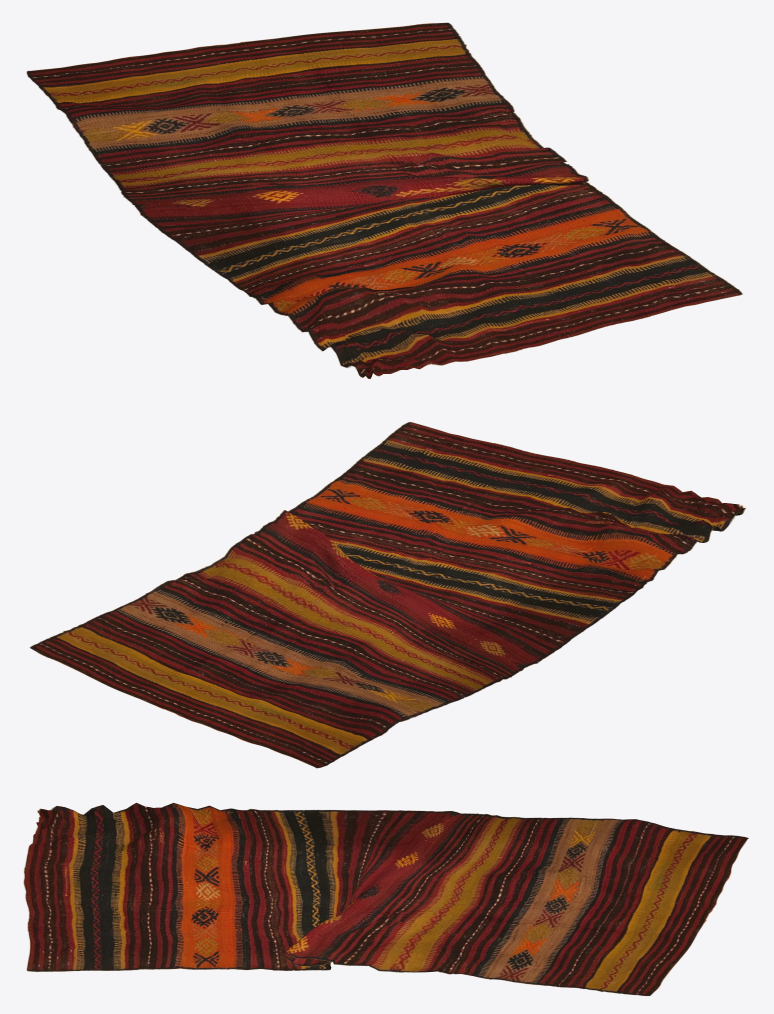
File: Boho_rug.glb
3 renders of one model, top to bottom at view 1: azimuth 30°, elevation 25°; view 2: azimuth 150°, elevation 25°; view 3: azimuth 270°, elevation 25°, orthographic. The views are drawn at different scales.
Visible parts, largest first — view 1: Rug_2; view 2: Rug_2; view 3: Rug_2.
Boxes of the visible parts, x1,y1,x2,y2 form: Rug_2: [26, 22, 742, 378]; Rug_2: [29, 422, 745, 768]; Rug_2: [23, 802, 748, 995].
Size of the model in its own units: 1.14 by 0.065 by 1.86.
Materials: 1 (1 with a texture image).
